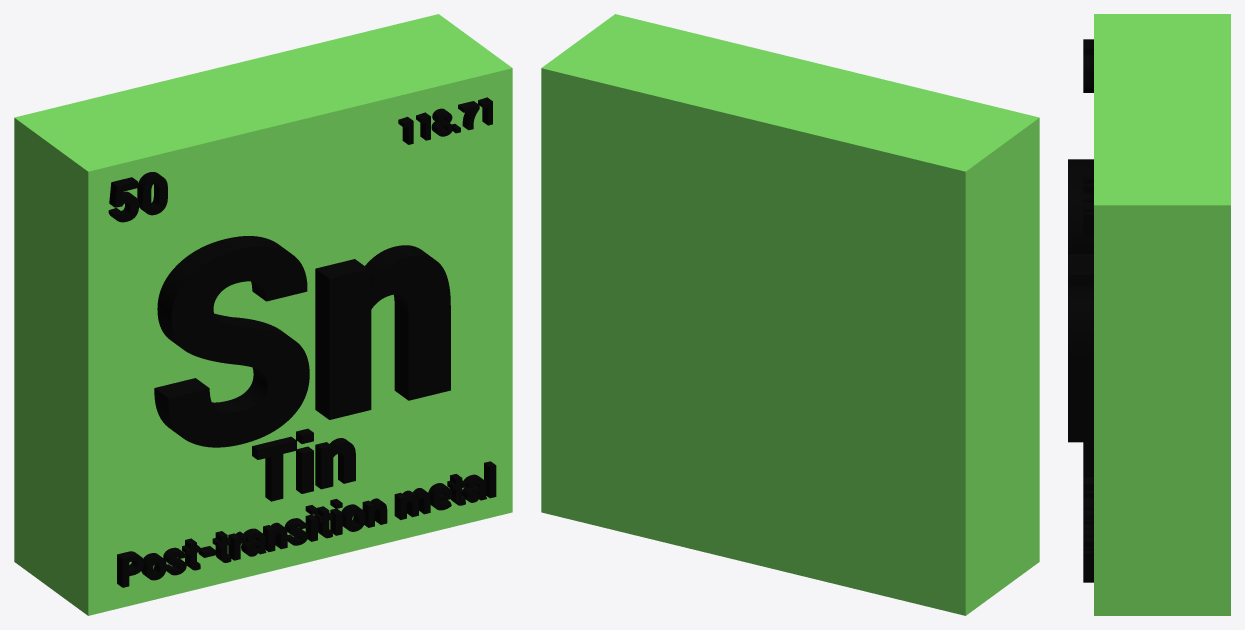
3 views of the same model, side by side, from view 1: azimuth 30°, elevation 25°; view 2: azimuth 150°, elevation 25°; view 3: azimuth 270°, elevation 25° (orthographic). The views are drawn at different scales.
Visible parts, largest first — view 1: Cube, Text, Text.002, Text.001, Text.003, Text.004; view 2: Cube; view 3: Cube, Text, Text.002, Text.004, Text.003, Text.001.
Part boxes in pixels (left/top/right/bottom): Cube: left=14, top=14, right=512, bottom=615; Text: left=154, top=236, right=450, bottom=447; Text.002: left=117, top=461, right=496, bottom=587; Text.001: left=252, top=428, right=355, bottom=501; Text.003: left=108, top=172, right=167, bottom=222; Text.004: left=398, top=97, right=492, bottom=144; Cube: left=541, top=14, right=1039, bottom=615; Cube: left=1094, top=14, right=1230, bottom=615; Text: left=1068, top=159, right=1093, bottom=442; Text.002: left=1083, top=473, right=1093, bottom=582; Text.004: left=1083, top=175, right=1093, bottom=236; Text.003: left=1083, top=39, right=1093, bottom=92; Text.001: left=1083, top=442, right=1093, bottom=472.
Bounding box in the file's own units: 178 × 178 × 63.95.
